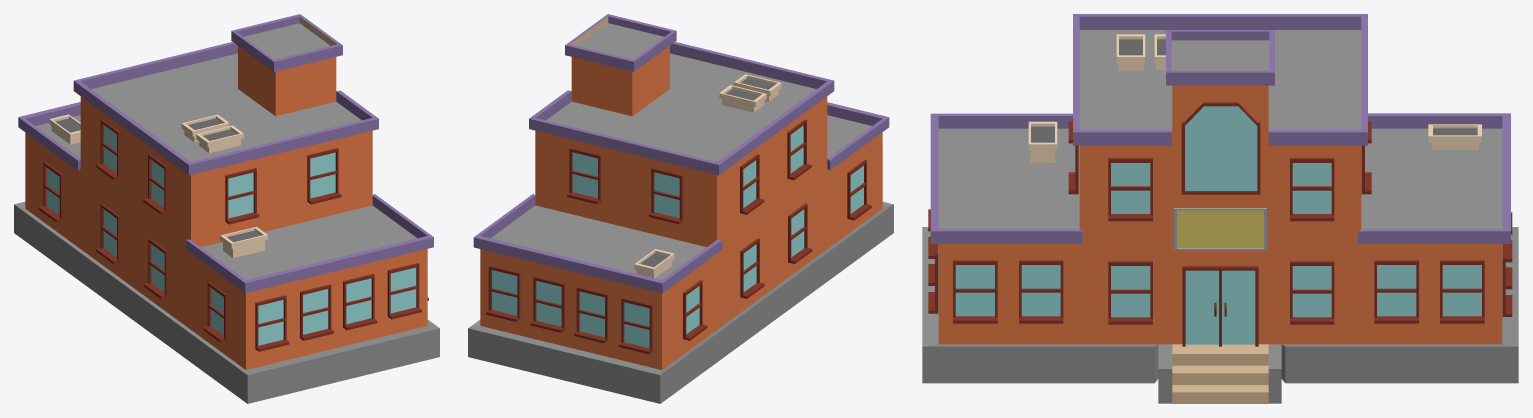
Rendered from school.dae.
3 views of the same model, side by side, from view 1: azimuth 30°, elevation 25°; view 2: azimuth 150°, elevation 25°; view 3: azimuth 270°, elevation 25° (orthographic). The views are drawn at different scales.
Parts seen in each view (by area): view 1: Building; view 2: Building; view 3: Building.
Boxes of the visible parts, left/top/right/bottom form: Building: left=14, top=14, right=439, bottom=403; Building: left=468, top=14, right=893, bottom=403; Building: left=922, top=14, right=1518, bottom=403.
Size of the model in its own units: 17.66 by 31.15 by 17.84.
